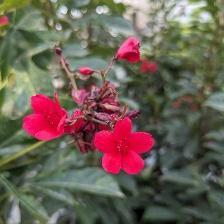jatropha: (93, 118, 155, 180)
